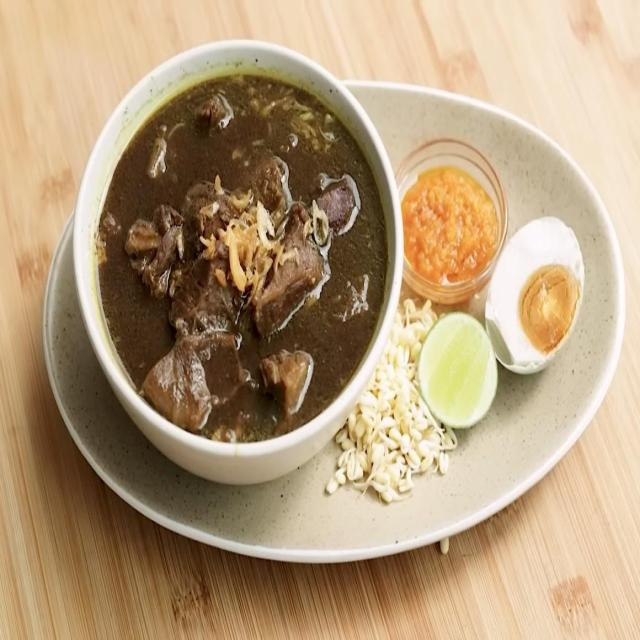Rawon: (85, 81, 382, 429)
